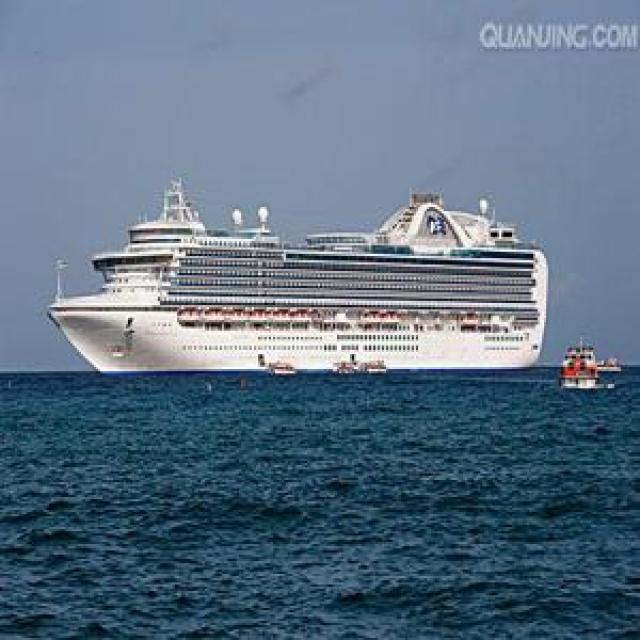passenger ship: (42, 174, 550, 370), (557, 325, 603, 390)
